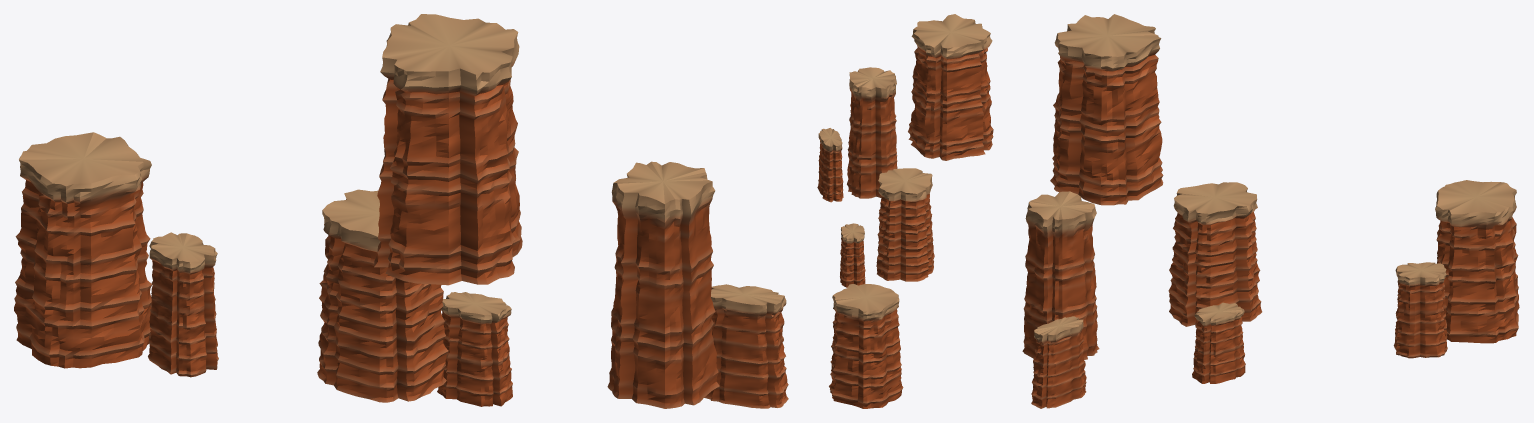
Rendered from terrain-083.glb.
3 views of the same model, side by side, from view 1: azimuth 30°, elevation 25°; view 2: azimuth 150°, elevation 25°; view 3: azimuth 270°, elevation 25° (orthographic). The views are drawn at different scales.
Visible parts, largest first — view 1: terrain-083; view 2: terrain-083; view 3: terrain-083.
Boxes of the visible parts, x1=… form: terrain-083: x1=14, y1=14, x2=788, y2=408; terrain-083: x1=817, y1=14, x2=993, y2=408; terrain-083: x1=1022, y1=14, x2=1519, y2=408.
Size of the model in its own units: 128 by 128 by 175.
